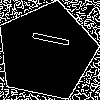I: (21, 27, 70, 50)
